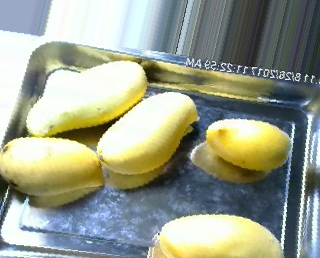Mango: (27, 60, 145, 132), (92, 91, 198, 171), (0, 135, 106, 194), (159, 212, 282, 258), (204, 116, 290, 170)
